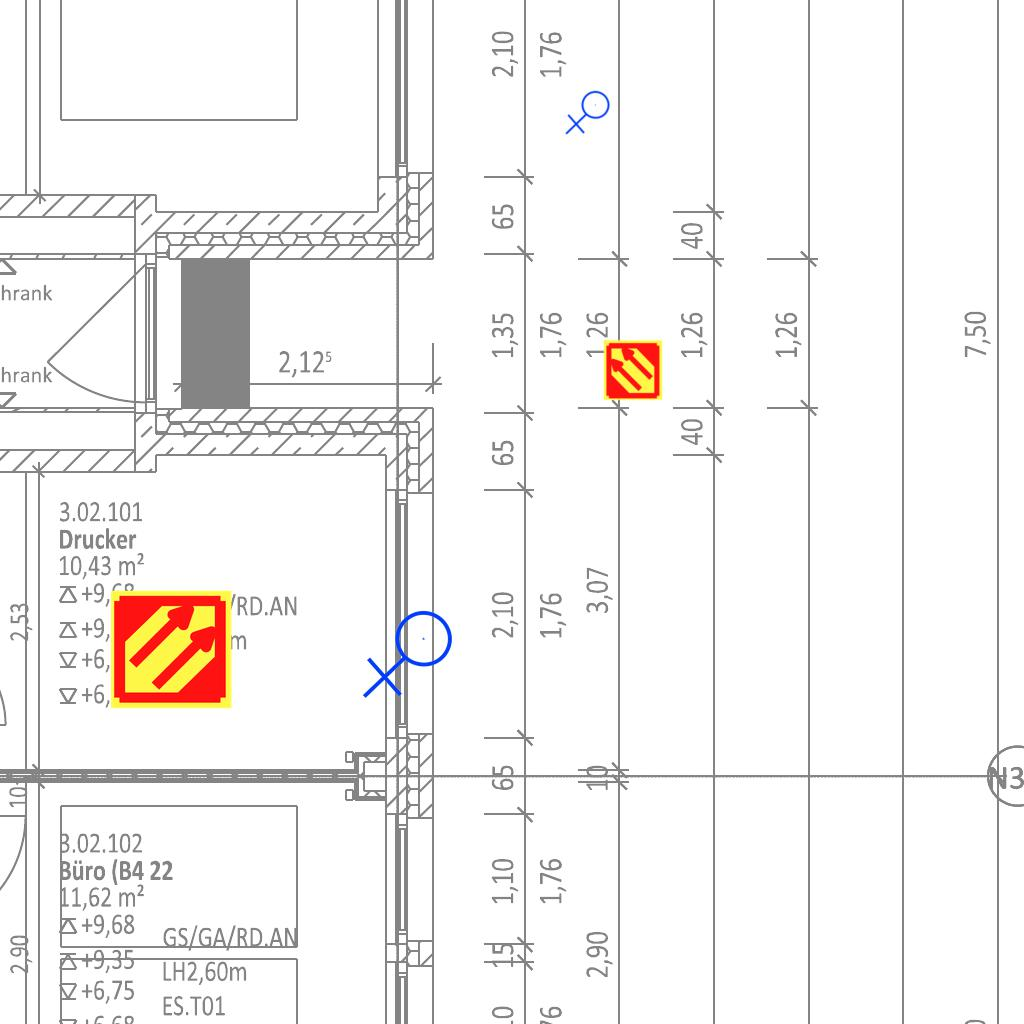ASR_Ansaugrauchmelder: (109, 587, 234, 712), (602, 339, 664, 401)
Elektroanschluss_allgemein_230V_Geraeteanschlussdose_230V: (362, 609, 461, 703), (565, 90, 614, 137)
